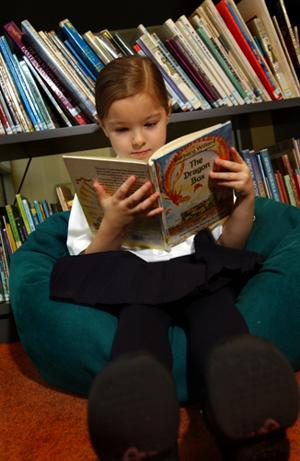person: (52, 55, 300, 458)
